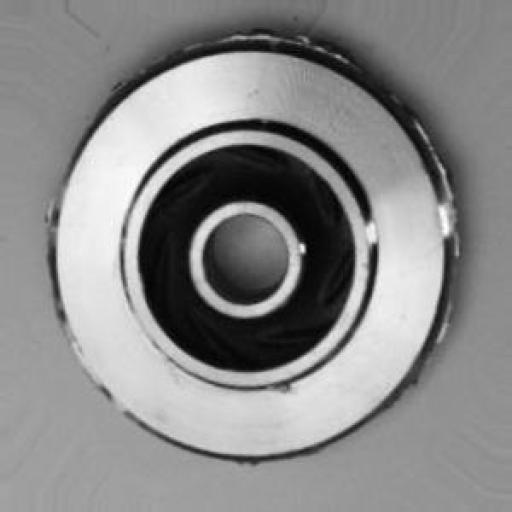defect: (40, 27, 480, 464)
